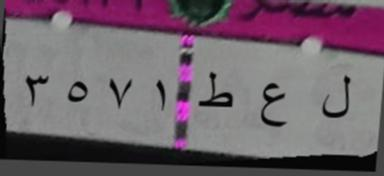1: (150, 72, 172, 119)
3: (22, 68, 52, 112)
5: (63, 75, 92, 111)
7: (105, 72, 136, 117)
Taa: (195, 63, 237, 115)
ain: (256, 78, 292, 138)
laam: (318, 66, 353, 134)
